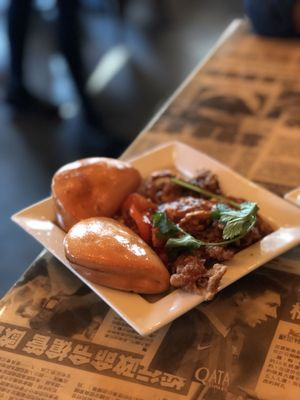curry: (2, 11, 299, 400)
